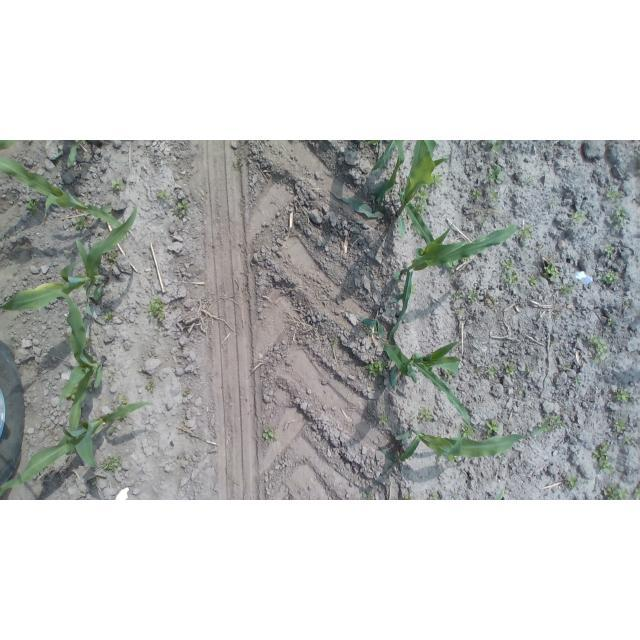Maize: (389, 221, 518, 341), (0, 402, 156, 498), (0, 205, 138, 312), (357, 315, 472, 430), (45, 288, 107, 455), (380, 410, 552, 463), (1, 157, 124, 228), (395, 141, 452, 280), (333, 141, 405, 220), (68, 140, 103, 169), (1, 140, 15, 150), (365, 140, 380, 144)
Weeds: (586, 333, 610, 365), (592, 442, 613, 473), (99, 453, 123, 473), (148, 295, 165, 323), (612, 205, 629, 231), (542, 261, 561, 283), (502, 258, 518, 284), (365, 360, 388, 377), (604, 484, 626, 500), (596, 273, 621, 287), (487, 164, 503, 185), (419, 406, 435, 424), (570, 208, 586, 226), (560, 281, 576, 299), (614, 387, 631, 403), (606, 187, 624, 202), (519, 224, 534, 241), (25, 199, 41, 214), (74, 215, 91, 229), (550, 414, 567, 428), (432, 172, 445, 189), (485, 419, 500, 433), (486, 364, 499, 380), (491, 141, 504, 156), (414, 202, 427, 217), (377, 412, 389, 428), (461, 424, 473, 439), (416, 187, 428, 202), (177, 198, 187, 215), (614, 419, 625, 434), (489, 186, 499, 202), (262, 428, 274, 441), (467, 290, 479, 303), (605, 243, 616, 257), (505, 361, 516, 375), (233, 156, 243, 171), (111, 178, 123, 190), (470, 188, 482, 200), (105, 310, 116, 323), (567, 476, 577, 490), (145, 380, 156, 392), (527, 275, 538, 286), (361, 490, 372, 500), (84, 337, 94, 347), (108, 252, 119, 261), (158, 189, 167, 199), (120, 395, 129, 405), (454, 290, 463, 299), (607, 316, 616, 325), (527, 175, 537, 183), (402, 494, 414, 500), (430, 492, 439, 500), (633, 488, 639, 500), (445, 372, 453, 381), (548, 198, 556, 207), (624, 299, 632, 308), (455, 309, 465, 316), (171, 208, 179, 216), (624, 436, 631, 445), (525, 364, 531, 374), (108, 426, 115, 434), (369, 327, 377, 334), (562, 364, 570, 371), (183, 388, 189, 397), (412, 284, 417, 294), (482, 218, 487, 228), (546, 426, 553, 433), (518, 389, 525, 396), (477, 365, 484, 372), (451, 493, 459, 499), (449, 262, 458, 267), (58, 151, 65, 157), (107, 370, 113, 377), (91, 481, 99, 486), (332, 341, 338, 347), (575, 376, 580, 383), (487, 433, 492, 439), (551, 340, 556, 346), (476, 210, 482, 215), (151, 349, 155, 356), (462, 258, 468, 262), (364, 324, 369, 328), (567, 140, 572, 144), (556, 312, 560, 317), (577, 333, 581, 337)
